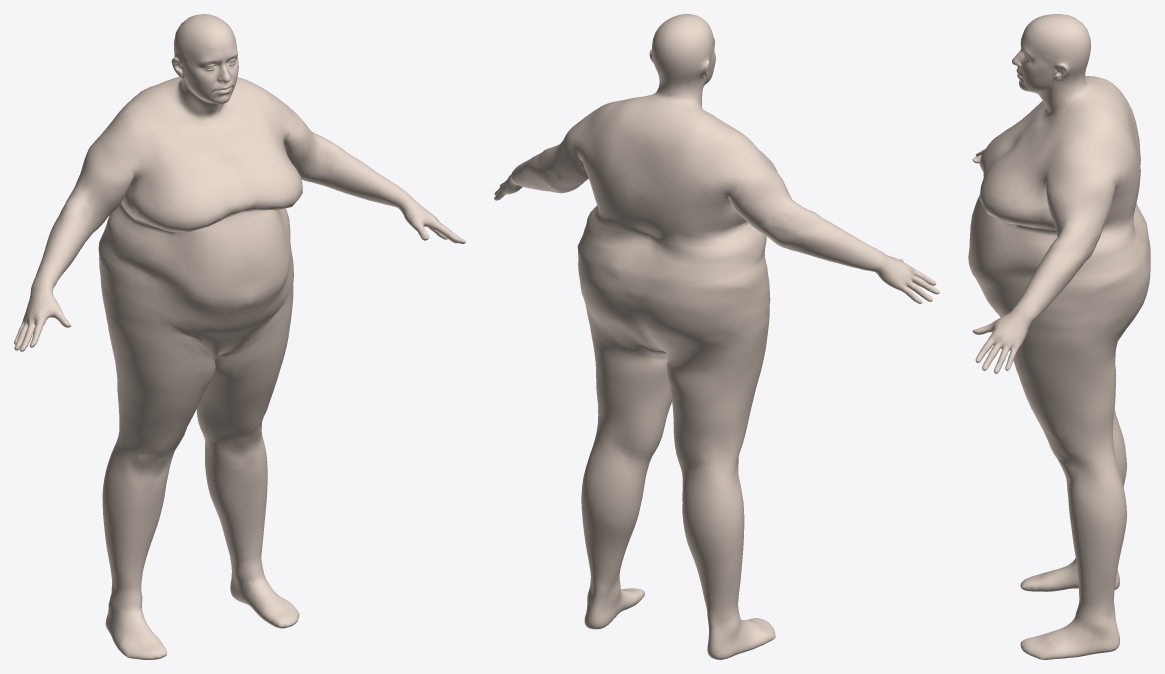
File: mhr-stocky.glb
The picture shows the model from 3 angles, left to right: view 1: azimuth 30°, elevation 25°; view 2: azimuth 150°, elevation 25°; view 3: azimuth 270°, elevation 25°; orthographic projection.
Parts seen in each view (by area): view 1: mhr-stocky; view 2: mhr-stocky; view 3: mhr-stocky.
Part boxes in pixels (x1=…): mhr-stocky: x1=14, y1=14, x2=465, y2=659; mhr-stocky: x1=494, y1=14, x2=939, y2=659; mhr-stocky: x1=968, y1=14, x2=1150, y2=659.
Size of the model in its own units: 1.33 by 1.75 by 0.4797.
